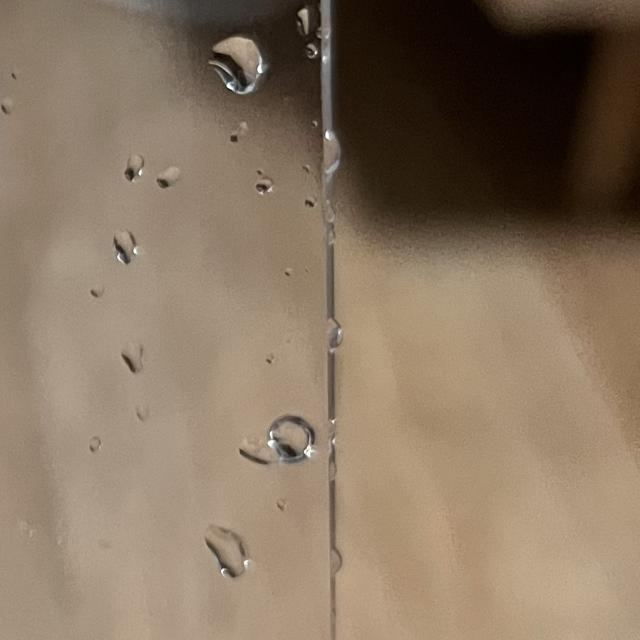raindrop: (188, 505, 262, 578), (266, 407, 333, 472), (207, 22, 268, 92), (226, 427, 278, 482), (107, 327, 159, 380), (115, 139, 161, 181), (117, 216, 152, 264), (118, 384, 156, 426), (149, 154, 189, 193), (79, 267, 115, 305), (220, 124, 264, 154), (244, 165, 280, 197), (309, 28, 320, 64)
